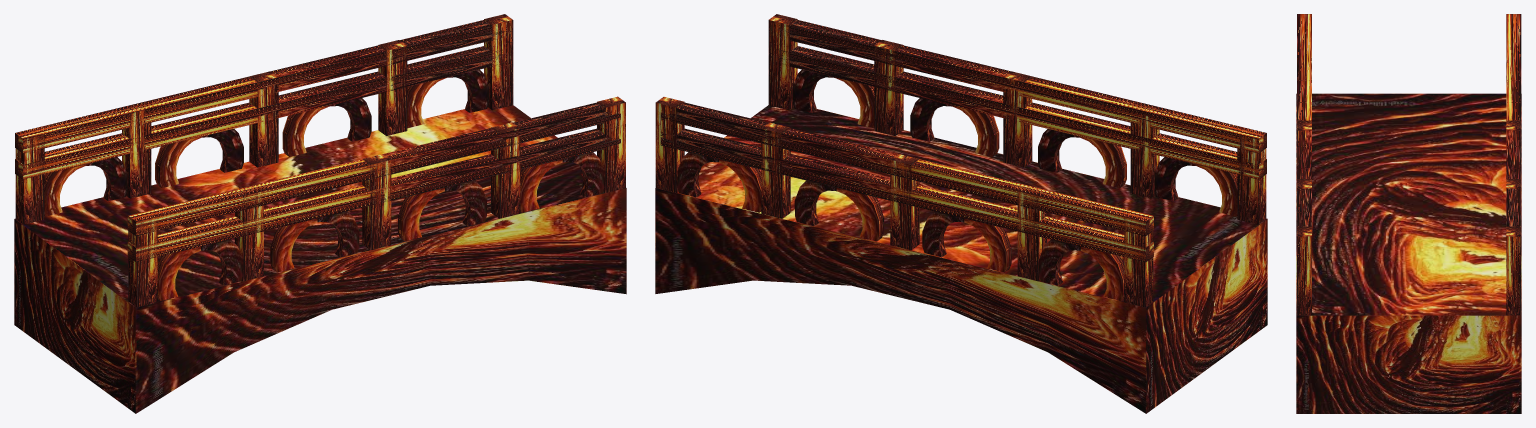
3 renders of one model, left to right at view 1: azimuth 30°, elevation 25°; view 2: azimuth 150°, elevation 25°; view 3: azimuth 270°, elevation 25°, orthographic. The views are drawn at different scales.
Parts seen in each view (by area): view 1: Box002; view 2: Box002; view 3: Box002.
Boxes of the visible parts, bbox=[...] form: Box002: bbox=[14, 14, 626, 413]; Box002: bbox=[655, 14, 1267, 413]; Box002: bbox=[1296, 14, 1521, 413].
Bounding box in the file's own units: 70 × 26.19 × 30.
1 material, 1 textured.
